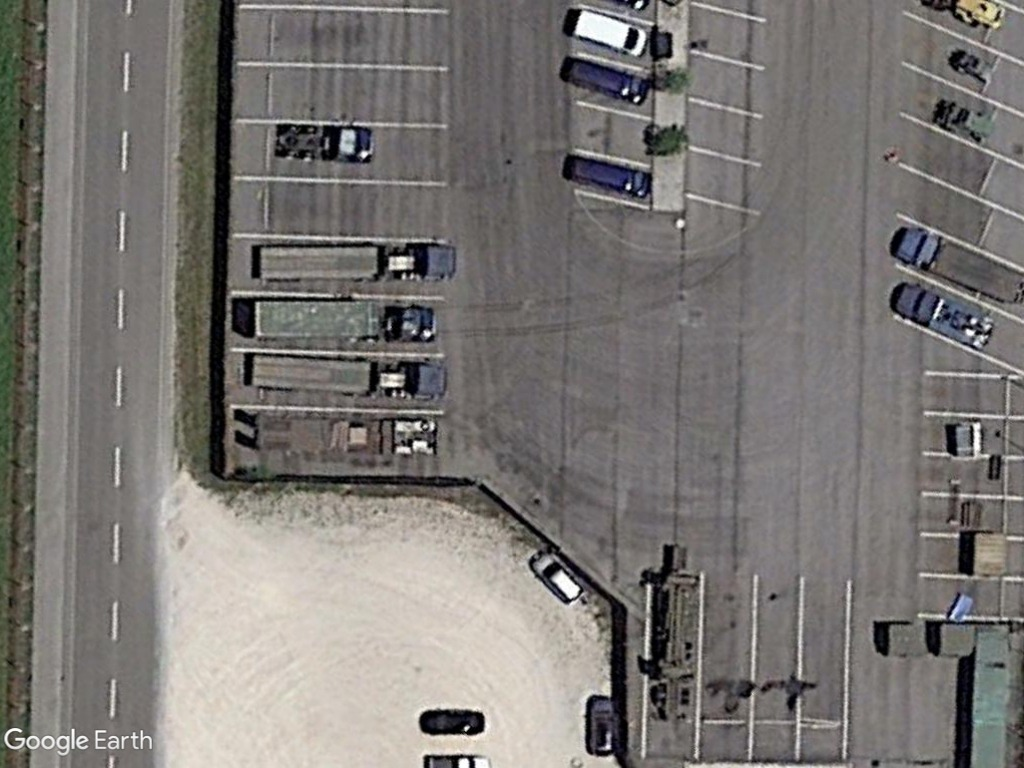car: (585, 695, 619, 758)
longvehicle: (241, 351, 452, 407), (249, 238, 462, 290), (247, 297, 446, 346)
truck: (892, 223, 1024, 308), (889, 279, 999, 355)
van: (561, 53, 654, 107), (562, 150, 656, 201), (568, 5, 649, 58), (524, 549, 586, 608)
